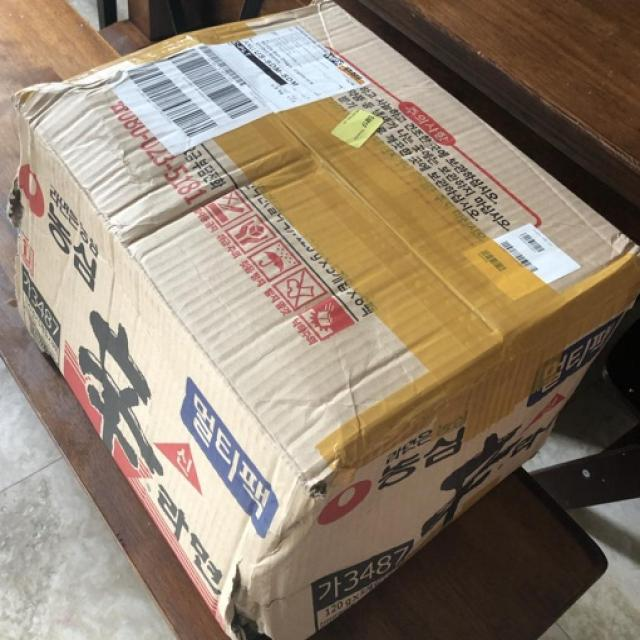damaged: (224, 563, 276, 640), (9, 169, 28, 236)
